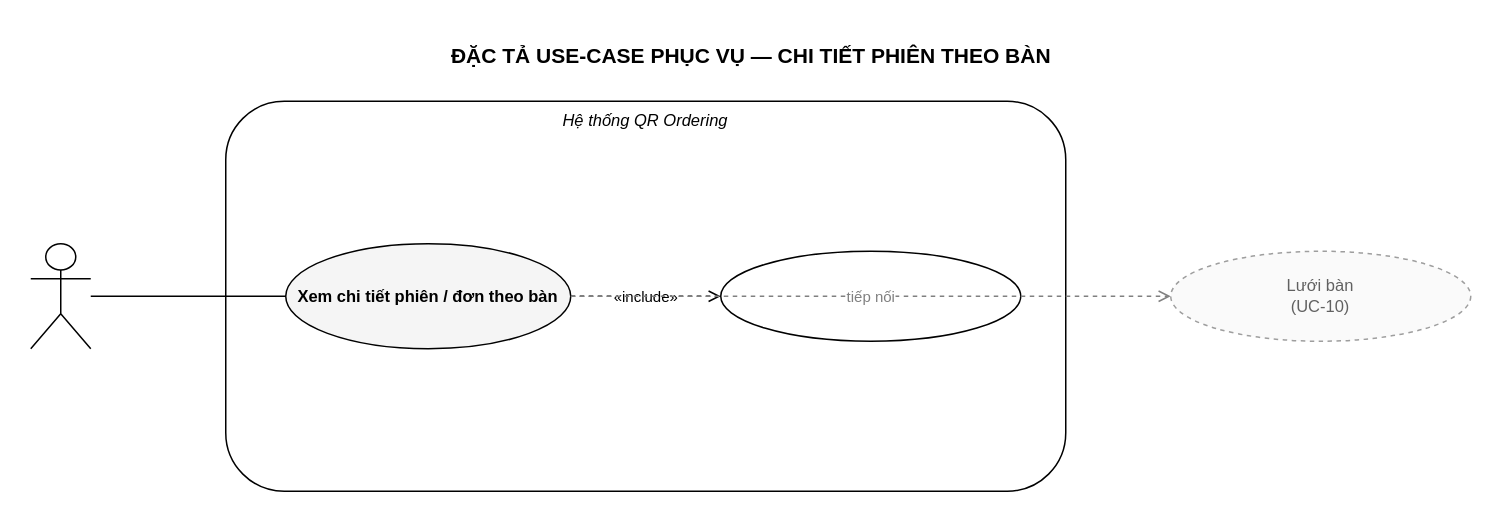
Image size: 1497x518. Some labels were removed from this diagram. The shapes that lost their labels are listed below. From the top down, each one's centre as x and y in pixels, then its label:
[60,295]: Phục vụ
[870,295]: Lấy đơn + order_item + trạng thái
